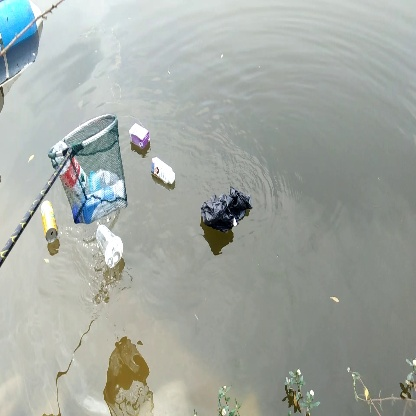bottle: (92, 223, 126, 267), (38, 201, 61, 247)
milk-box: (127, 120, 151, 149)
plastic-bag: (199, 185, 257, 237)
